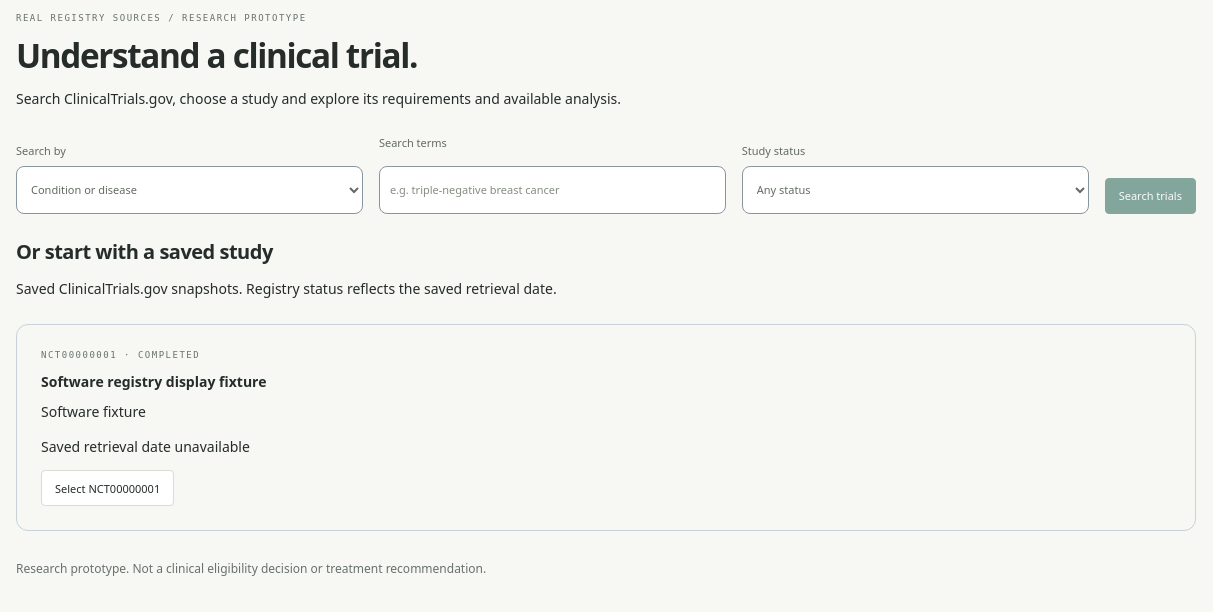
Test case: a record without eligibility text cannot start an unsupported analysis
Click the button "Select NCT00000001" at point(108, 488), box [41,470,174,506]
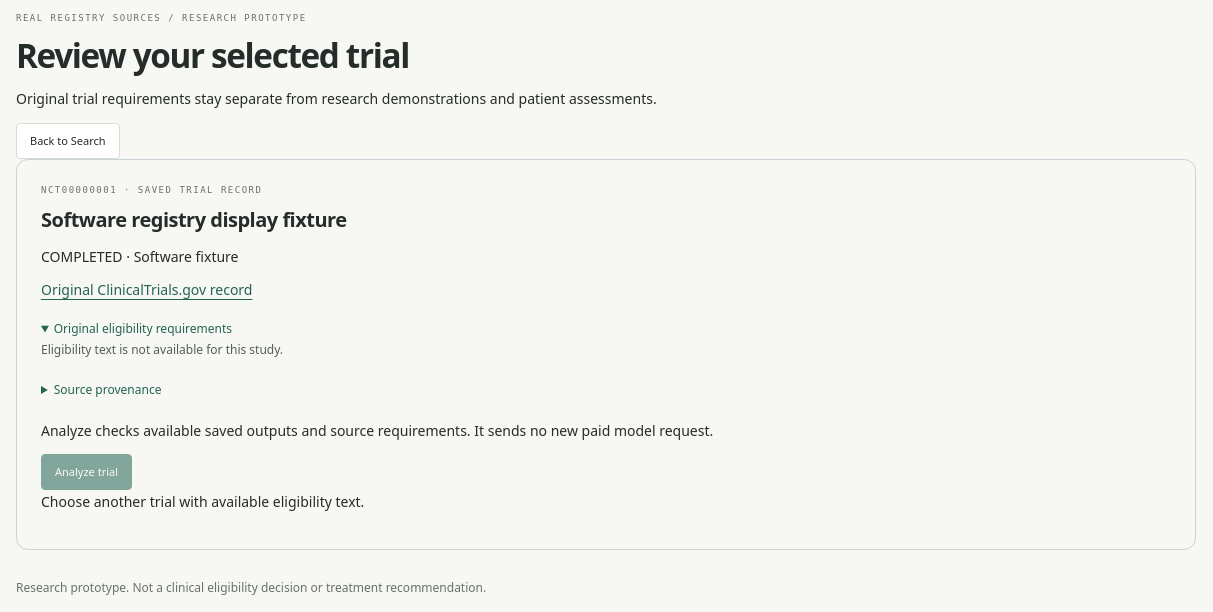
Check: the button "Analyze trial" is disabled, box [41,454,132,490]
Check: the text "Choose another trial with available eligibility text." is shown, box [41,492,364,511]
Click the button "Back to Search" at point(68, 140), box [16,122,120,158]
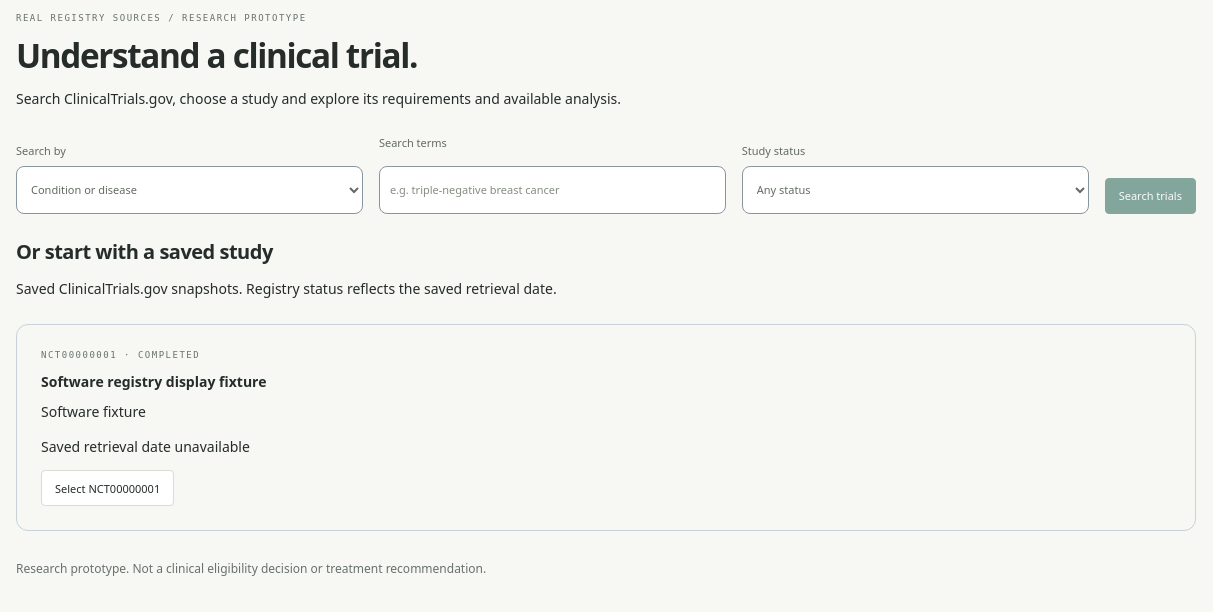
Check: the button "Search trials" is shown, box [1105,178,1196,214]
